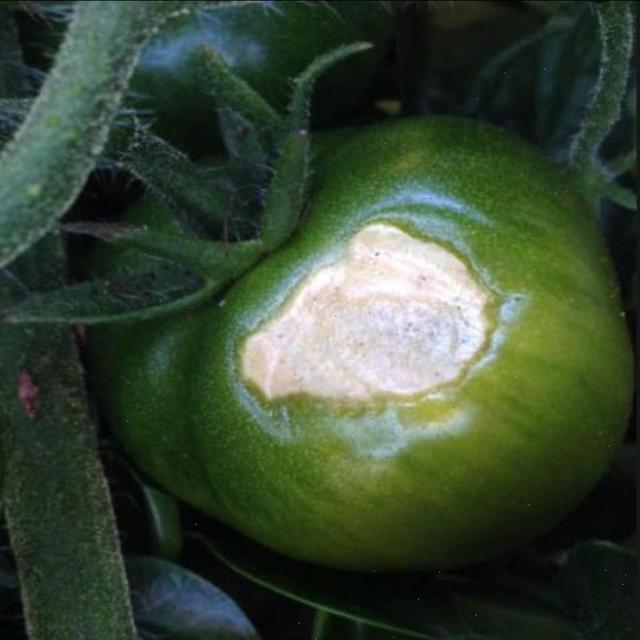Sunscald Fruit: (154, 135, 332, 296)
